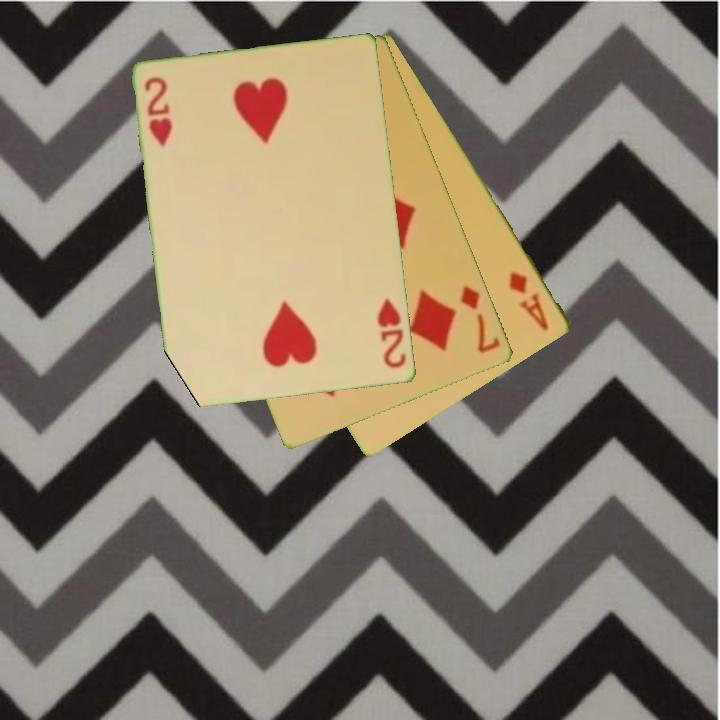2h: (374, 295, 409, 372), (141, 74, 175, 150)
7d: (457, 282, 504, 356)
Ad: (505, 268, 553, 335)
